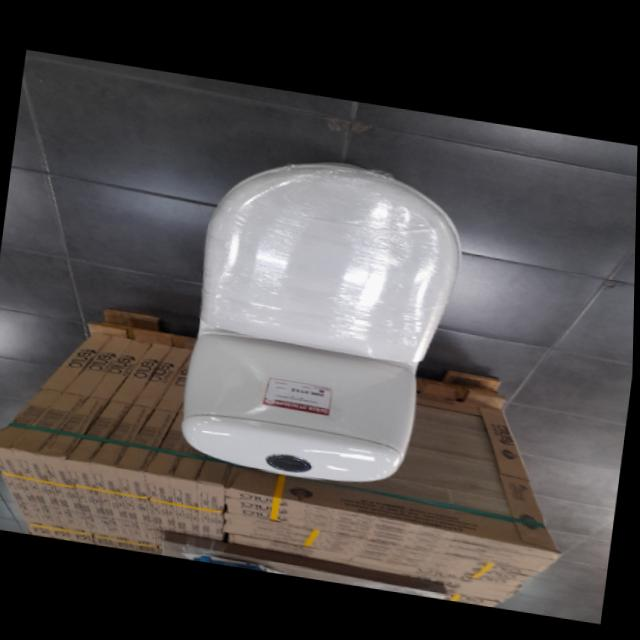toilet: (174, 139, 471, 496)
